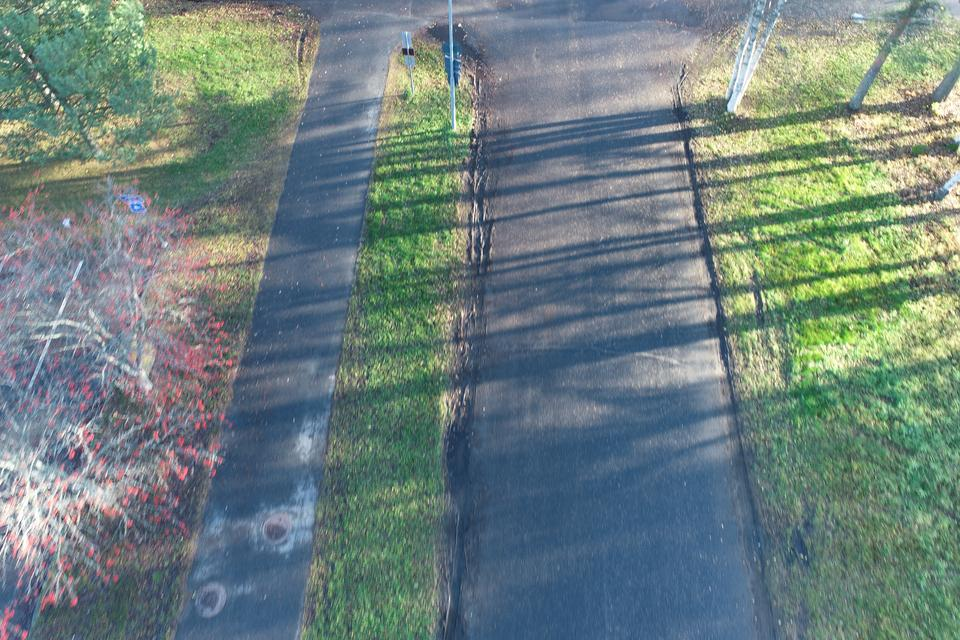intersection: (216, 1, 803, 150)
